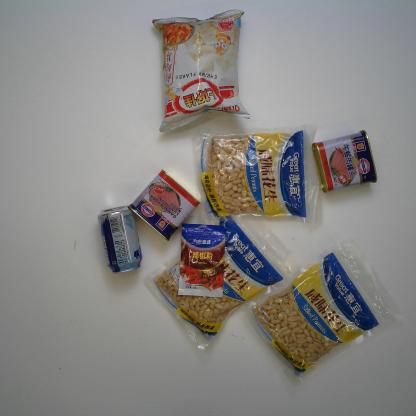Alcohol: (97, 204, 144, 276)
Canned Food: (126, 167, 202, 242), (312, 127, 382, 194)
Dried Fruit: (246, 237, 408, 390), (142, 206, 302, 352), (193, 120, 327, 228)
Puffed Food: (150, 9, 253, 135)
Seasoner: (177, 220, 227, 299)
